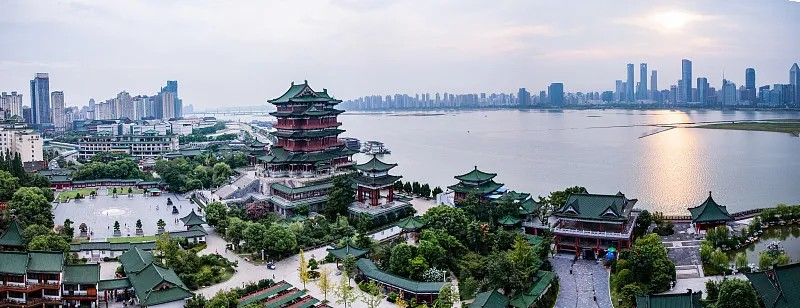Teng: (254, 80, 355, 172)
